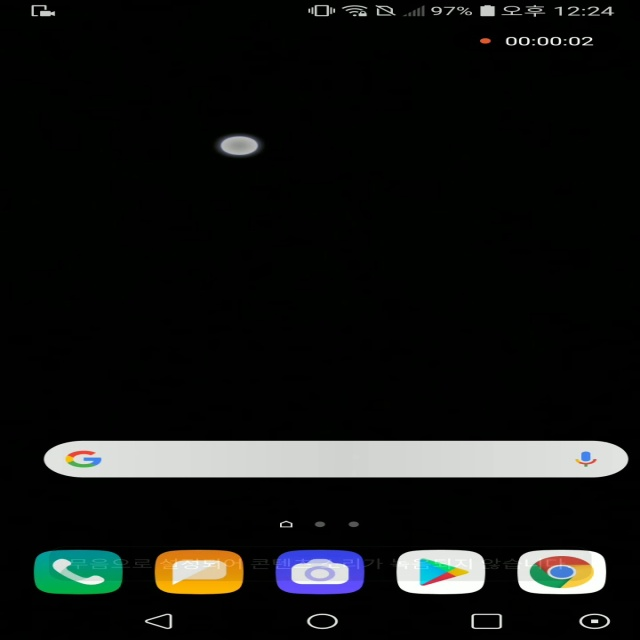Cursor: (218, 136, 263, 158)
